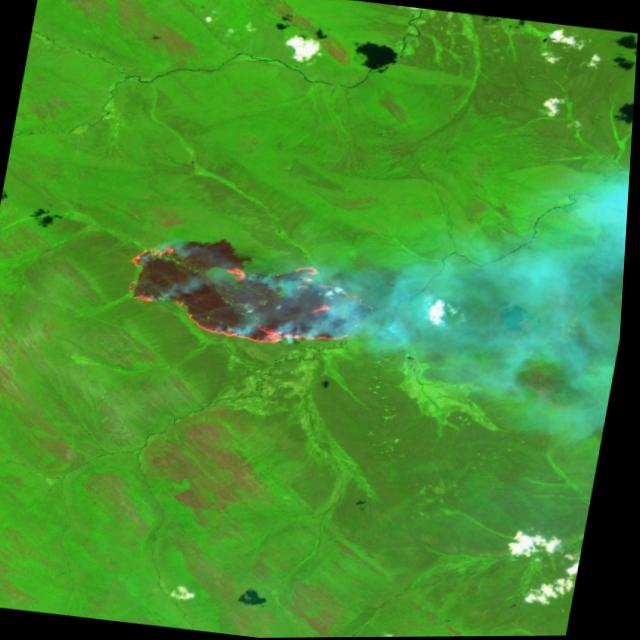fire: (116, 234, 393, 359)
